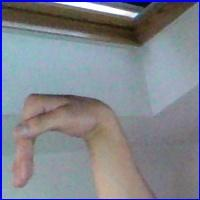del: (6, 87, 114, 190)
